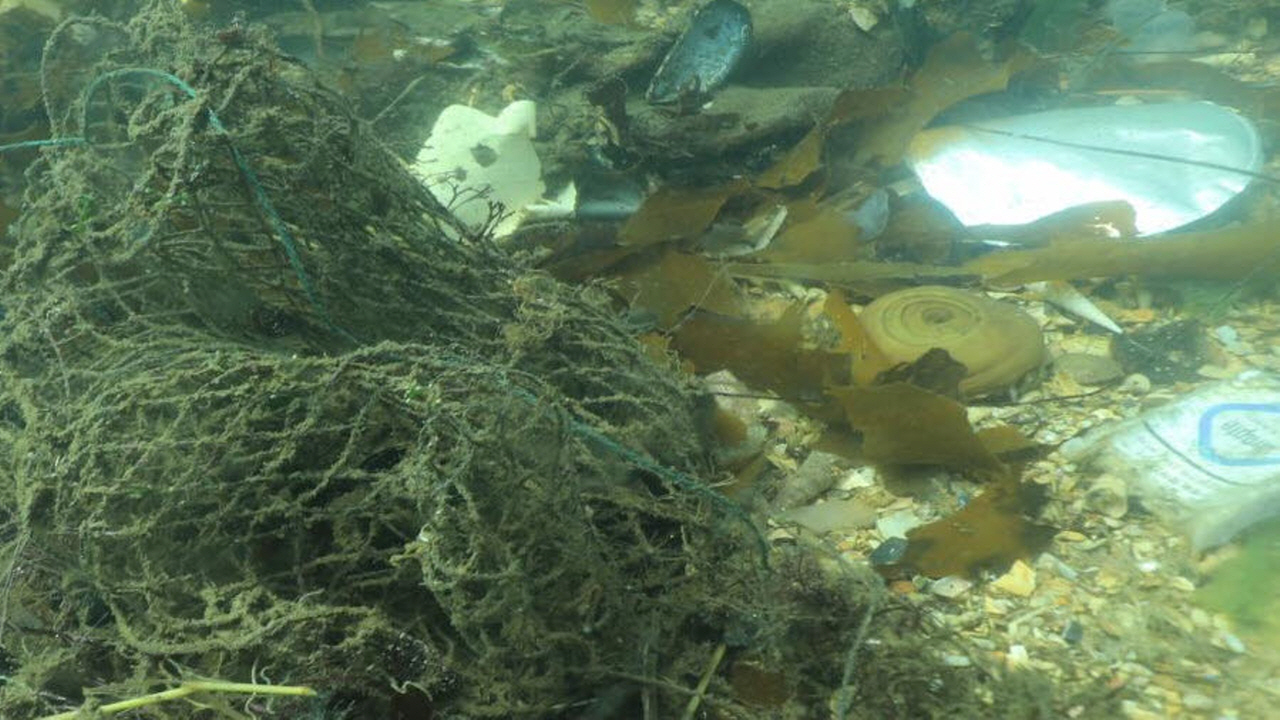fish net: (0, 0, 876, 719)
